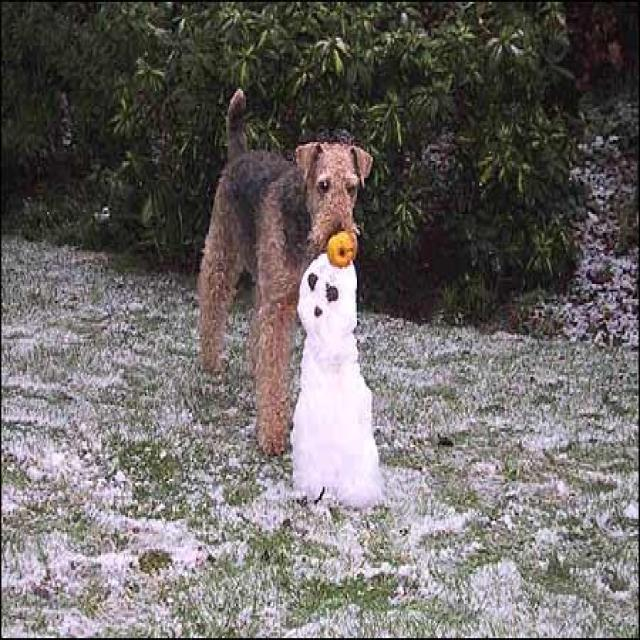airedale: (192, 80, 378, 458)
